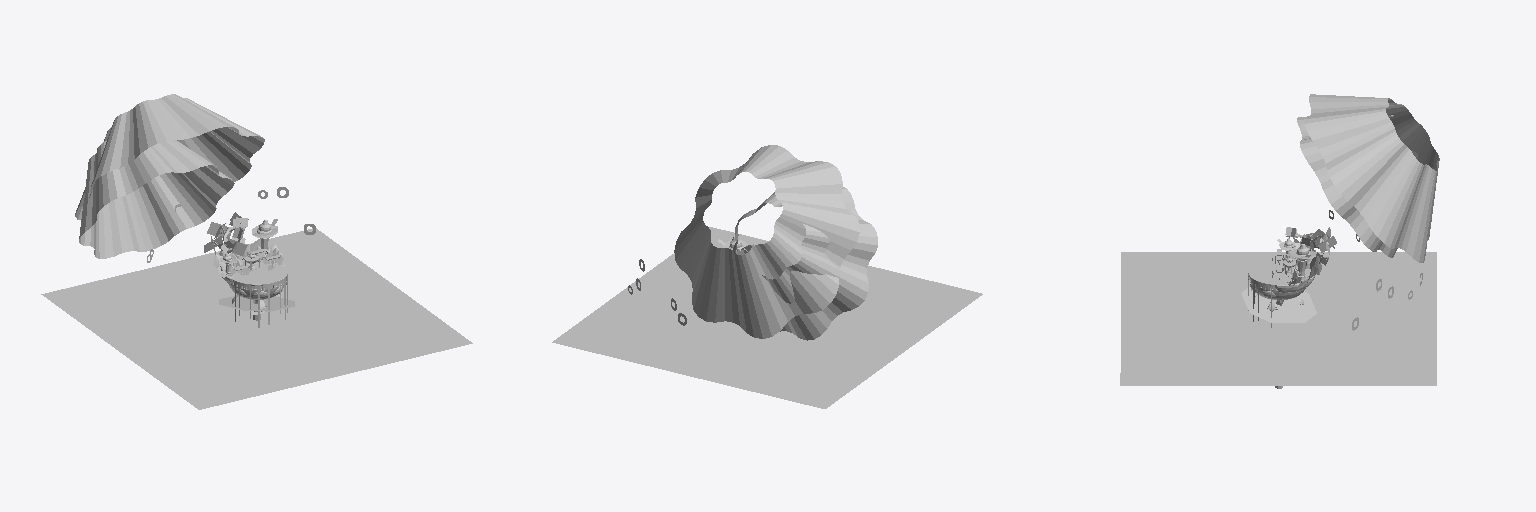
Rendered from Fountain_of _Dreams.obj.
The picture shows the model from 3 angles: view 1: azimuth 30°, elevation 25°; view 2: azimuth 150°, elevation 25°; view 3: azimuth 270°, elevation 25°; orthographic projection.
Visible parts, largest first — view 1: Fountain_of_Dreams; view 2: Fountain_of_Dreams; view 3: Fountain_of_Dreams.
Boxes of the visible parts, x1,y1,x2,y2 form: Fountain_of_Dreams: [41, 94, 472, 409]; Fountain_of_Dreams: [552, 145, 982, 408]; Fountain_of_Dreams: [1120, 94, 1439, 388].
Size of the model in its own units: 621 by 561 by 621.